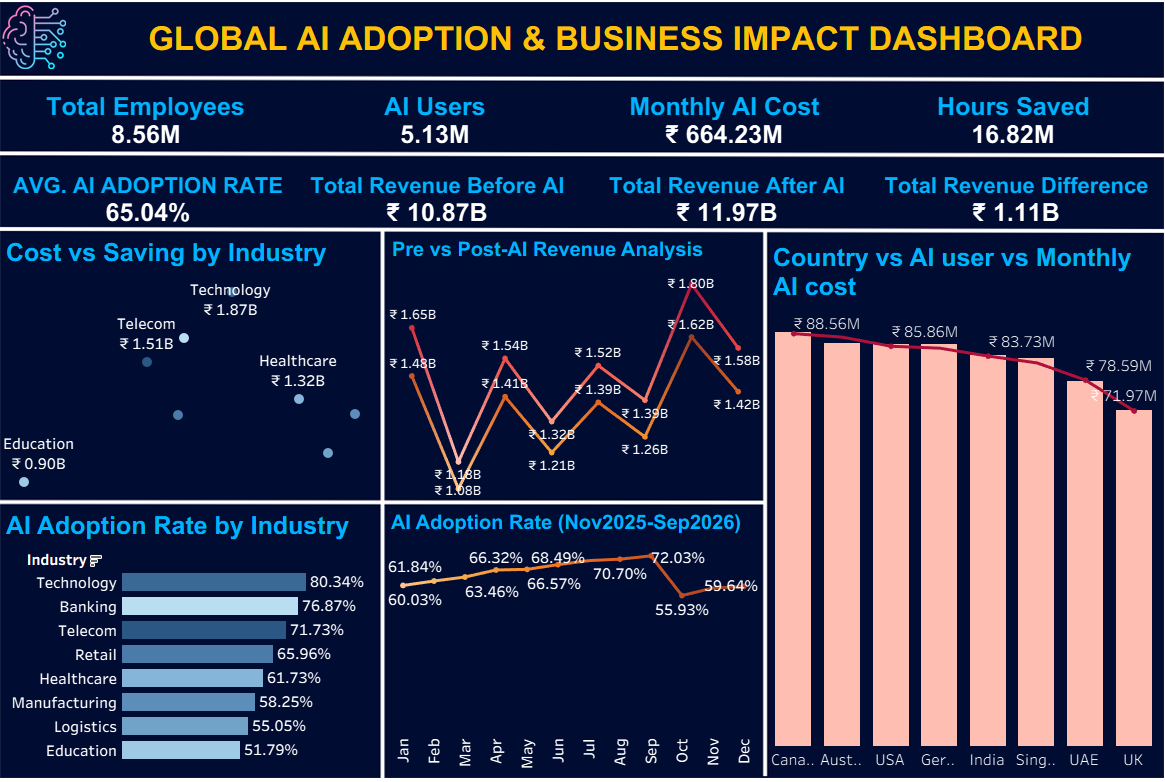

What the dashboard file says about the page in this screenshot:
{"tool":"tableau","page":{"name":"Dashboard 1","canvas":[1200,800],"ordinal":0},"visuals":[{"type":"image","param":"Image/Untitled design (4).png","box":[8,8,1184,784]},{"type":"text","box":[89,14,1089,69]},{"type":"image","param":"Image/ai.png","box":[20,15,64,67]},{"type":"worksheet","title":"KPI","mark":"Automatic","box":[19,90,1158,71]},{"type":"worksheet","title":"KPIs","mark":"Automatic","box":[21,168,1158,69]},{"type":"worksheet","title":"Cost vs Saving by Industry","mark":"Circle","rows":["Annual_Savings"],"cols":["Calculation_1580041874411531"],"box":[20,244,375,263]},{"type":"worksheet","title":"Pre vs Post-AI Revenue Analysis","mark":"Line","rows":["Revenue_Before_AI","Revenue_After_AI"],"cols":["Industry"],"box":[406,244,373,266]},{"type":"worksheet","title":"Country vs AI user vs Monthly AI cost","mark":"Bar","rows":["AI_Users","Monthly_AI_Cost"],"cols":["Country"],"box":[787,249,389,532]},{"type":"worksheet","title":"AI Adoption Rate by Industry","mark":"Automatic","rows":["Industry"],"cols":["AI_Adoption_Rate"],"box":[20,517,375,266]},{"type":"worksheet","title":"AI Adoption Rate (Nov2025-Sep2026)","mark":"Line","rows":["AI_Adoption_Rate"],"cols":["Month"],"box":[405,517,372,266]}]}

Visuals, with their boxes in screenshot pixels (x1, y1, x2, y2), scaled from the page's 1200x800 canvas onto the 1165x782 screenshot:
image: 8,8,1157,774
text: 86,14,1144,81
image: 19,15,82,80
"KPI" worksheet: 18,88,1143,157
"KPIs" worksheet: 20,164,1145,232
"Cost vs Saving by Industry" worksheet (Circle marks): 19,239,383,496
"Pre vs Post-AI Revenue Analysis" worksheet (Line marks): 394,239,756,499
"Country vs AI user vs Monthly AI cost" worksheet (Bar marks): 764,243,1142,763
"AI Adoption Rate by Industry" worksheet: 19,505,383,765
"AI Adoption Rate (Nov2025-Sep2026)" worksheet (Line marks): 393,505,754,765
